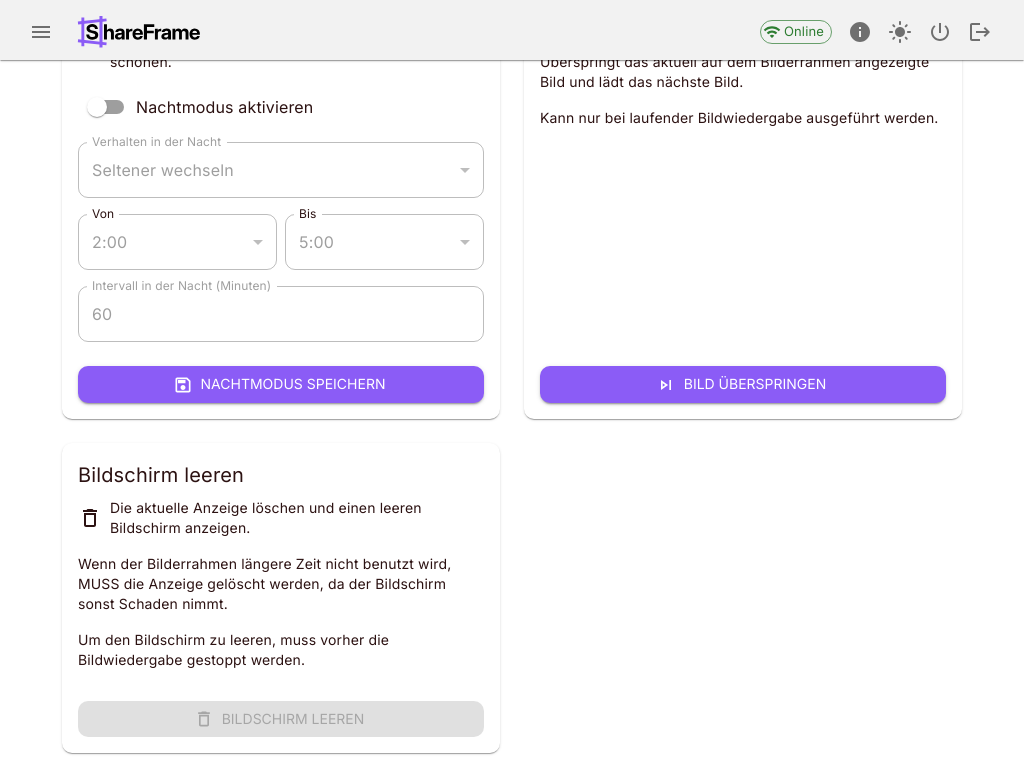
Test: frame actions › reports a failed skip
(page scrolled)
Click the button "Bild überspringen" at (743, 385), box top-left (540, 366), bottom-right (946, 403)
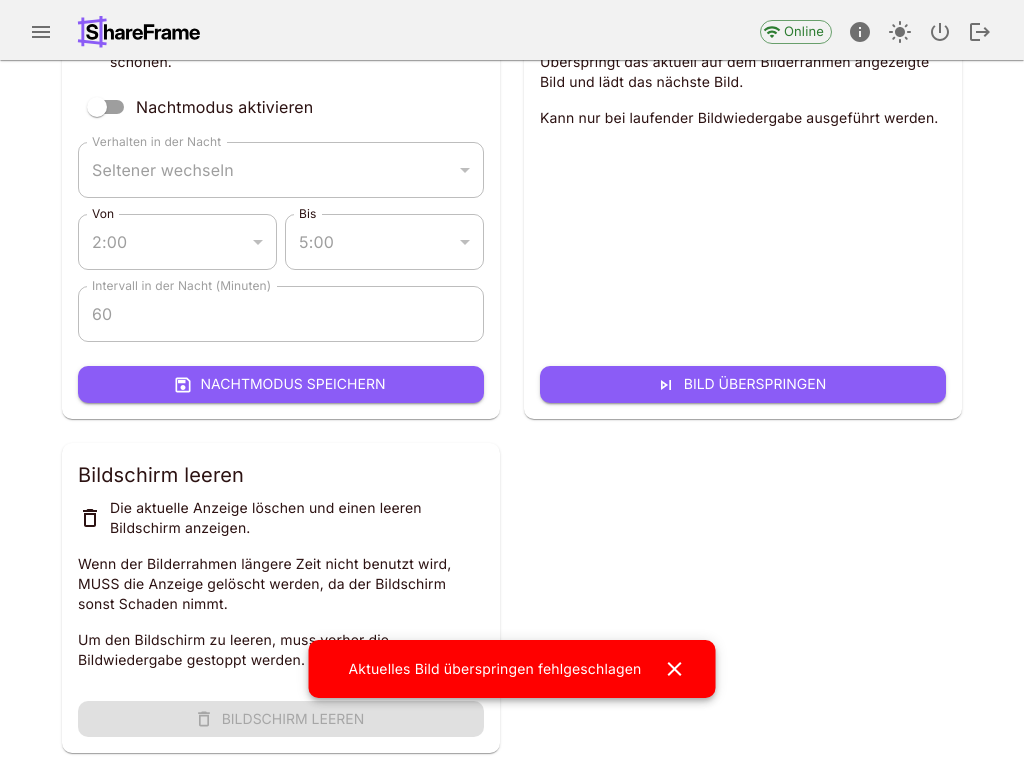
Expected: the heading "Aktuelles Bild überspringen fehlgeschlagen" is shown, top-left (348, 658), bottom-right (642, 680)
